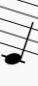note: (1, 1, 34, 66)
